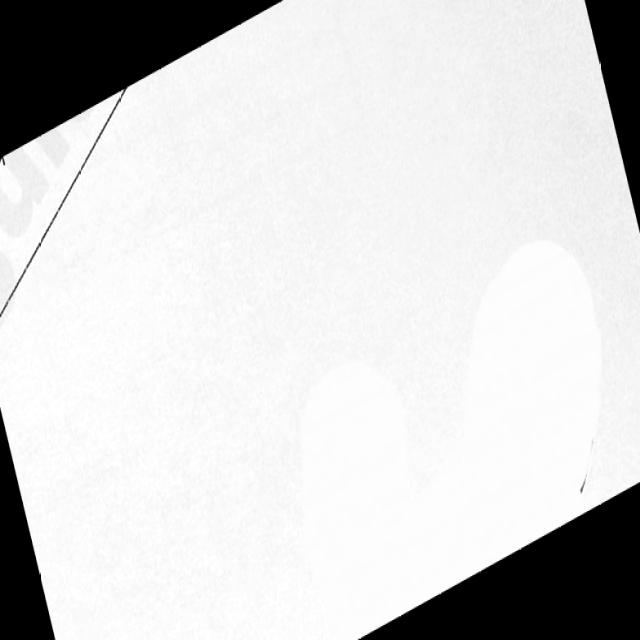Measrement: (1, 88, 122, 331)
